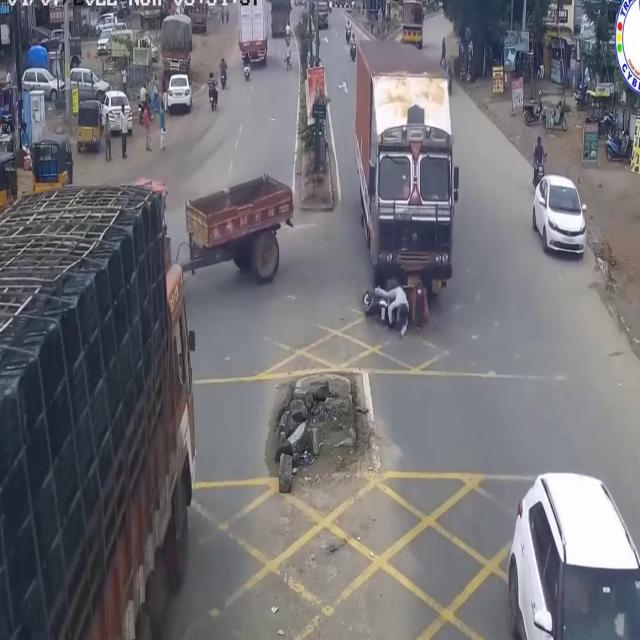accident: (353, 36, 461, 338)
non_accident: (0, 168, 310, 640), (65, 58, 137, 164), (151, 10, 201, 134)
